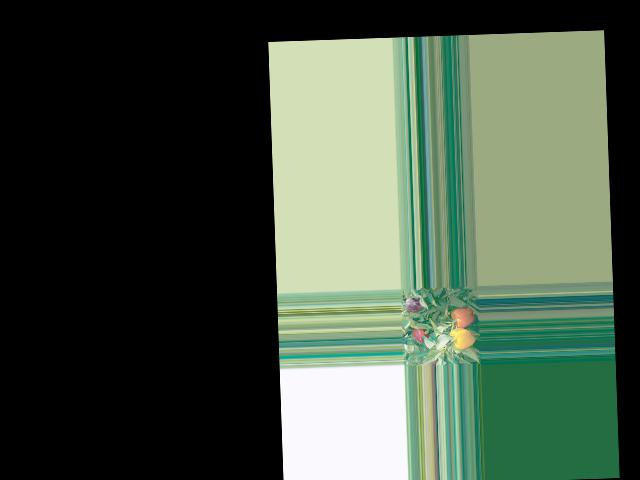bell_pepper: (448, 322, 474, 349)
